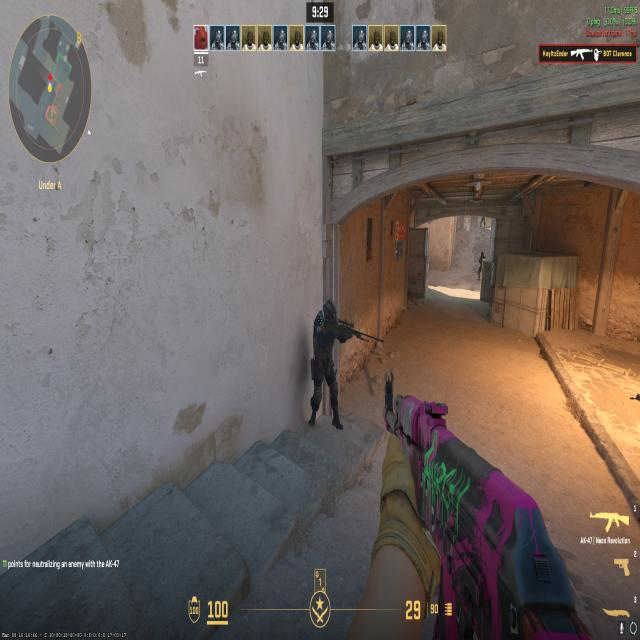ct: (306, 290, 348, 436), (478, 247, 484, 279)
